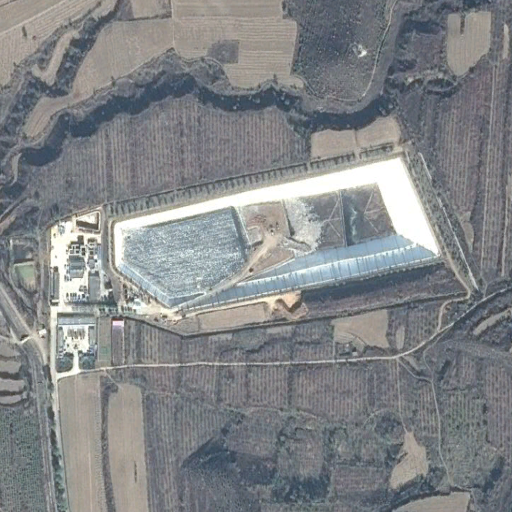lf: (110, 158, 441, 313)
